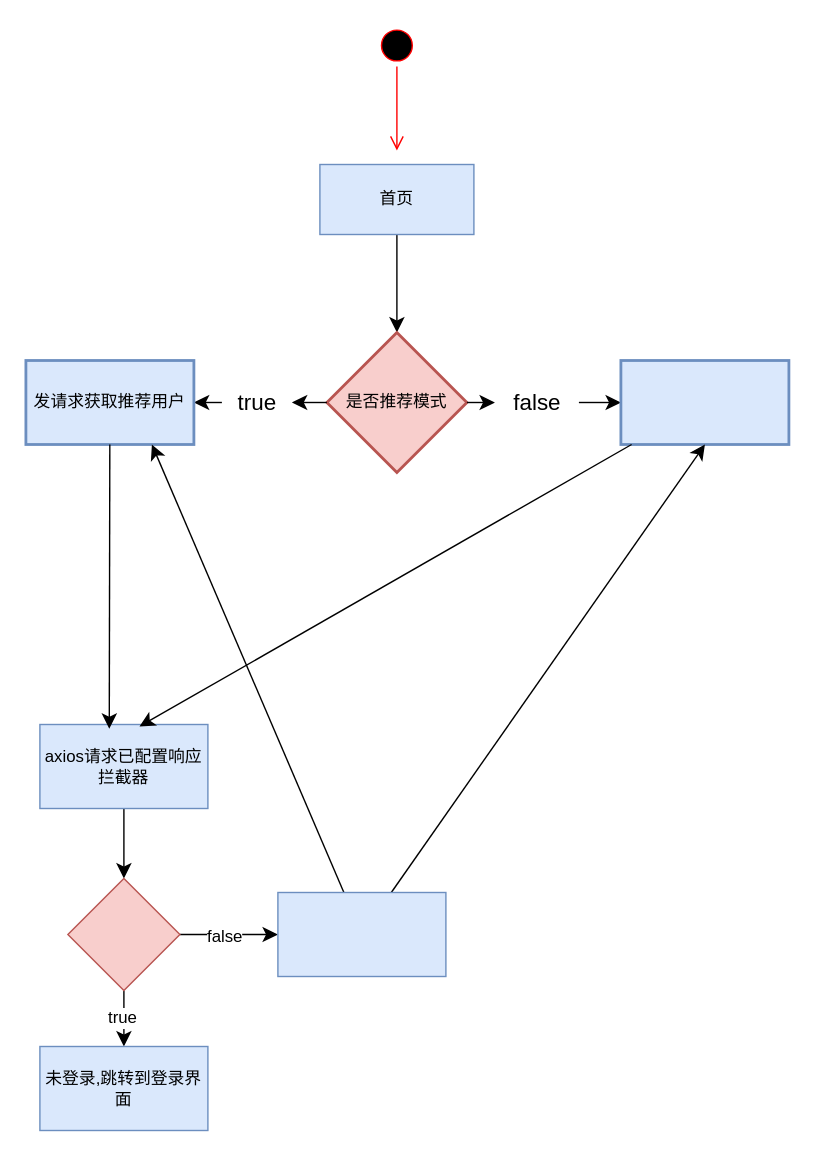
Image size: 813x1155. Some labels were removed from this diagram. Here are the shapes that lost their labels. From the top down, the centre of each, then its label:
At [704,401]: "发请求获取全部用户".
At [123,933]: "返回状态码是否是40100".
At [361,933]: "已登录,返回数据".
